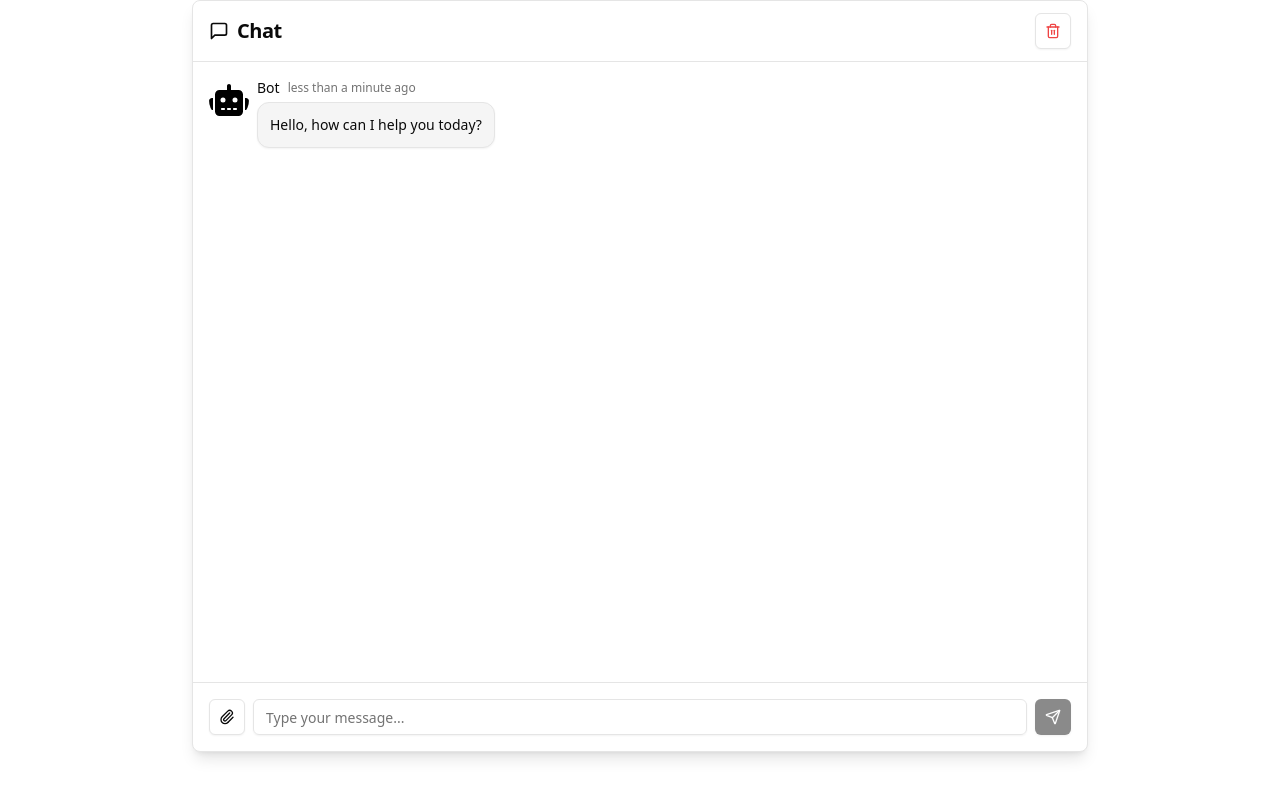
ChatLayout › user can type "hi" and see the bot reply
Type "hi" in the input field
Step 1. Type "hi" into the field with placeholder "Type your message..." → [640, 717], box [253,699,1027,735]
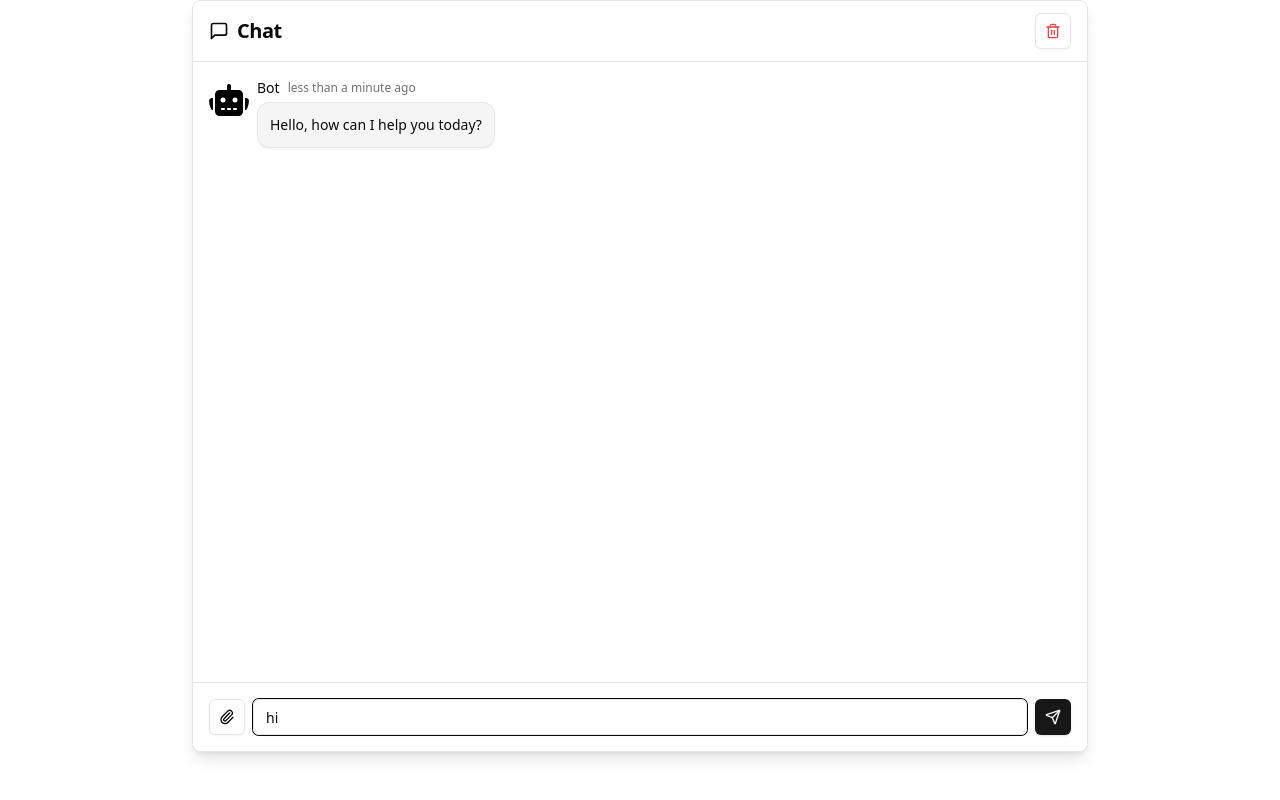
Find and click the send button
Step 2. Click the 3rd button named "send message" → [1053, 717], box [1035,699,1071,735]
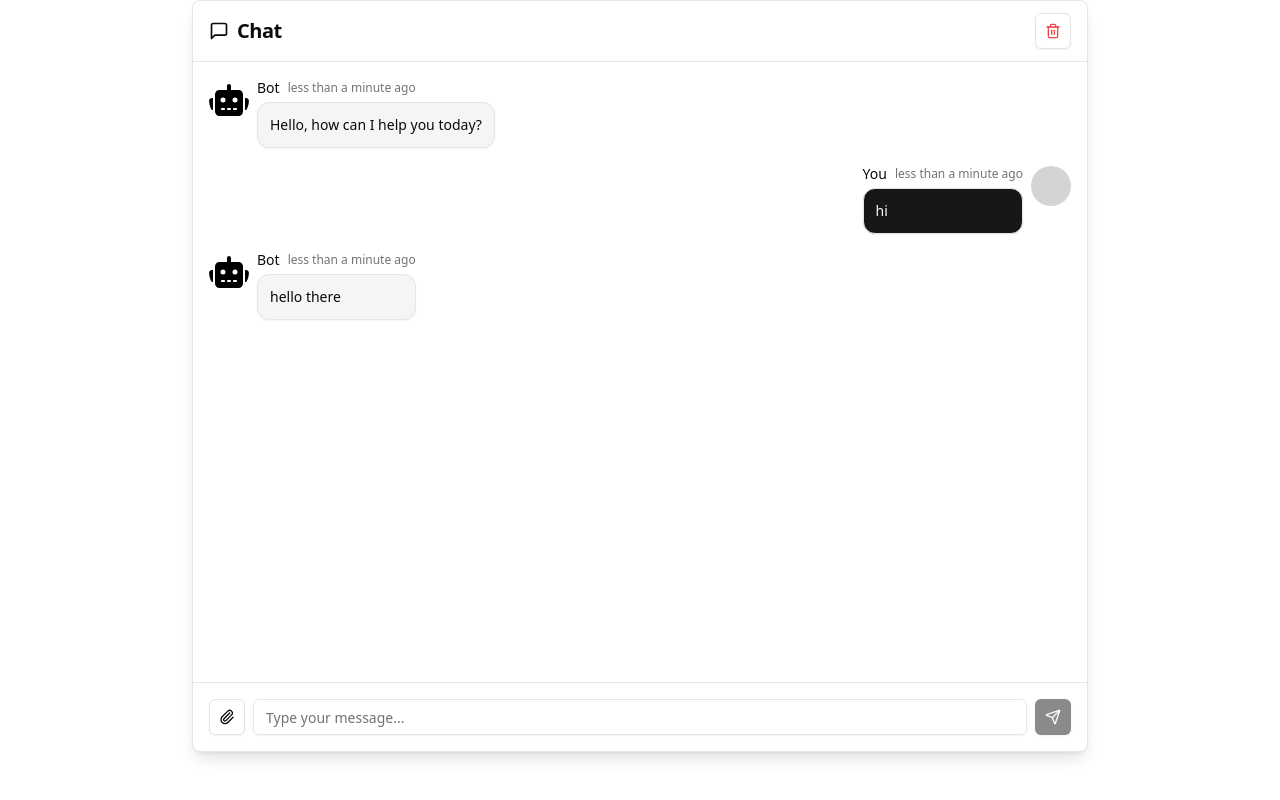
Check: the text "hi" is shown, box [876,201,888,220]
Check: the text "hello there" is shown, box [270,287,341,306]
